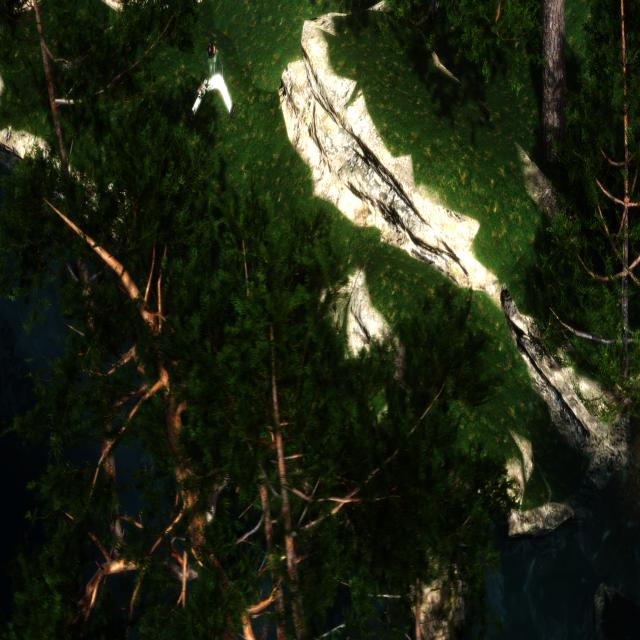Human: (186, 37, 238, 124)
